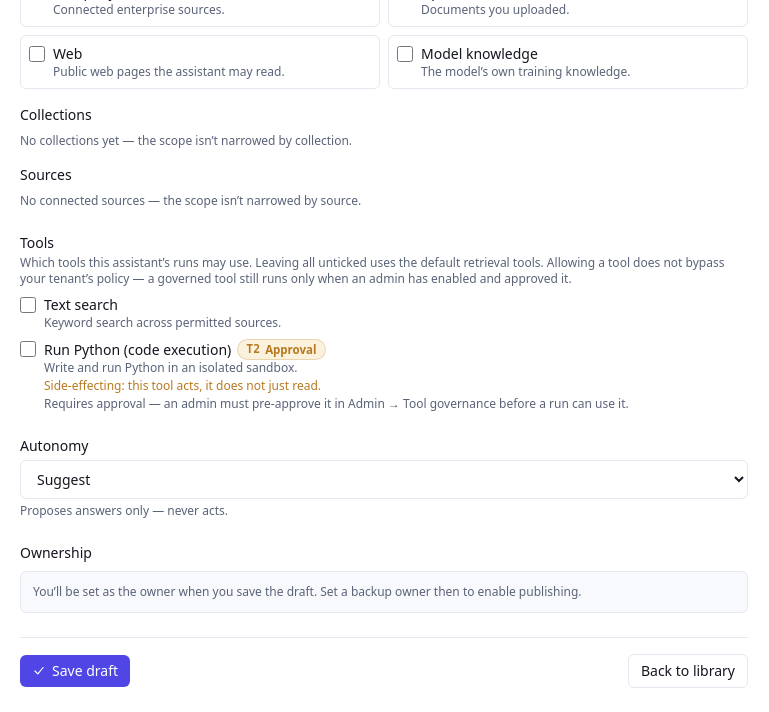
AssistantEditor — new mode › shows an inline name error when saving without a name (INV-8 client guard)
(page scrolled)
Click the button "Save draft".
click(75, 671)  # box [20,655,130,687]
(page scrolled)
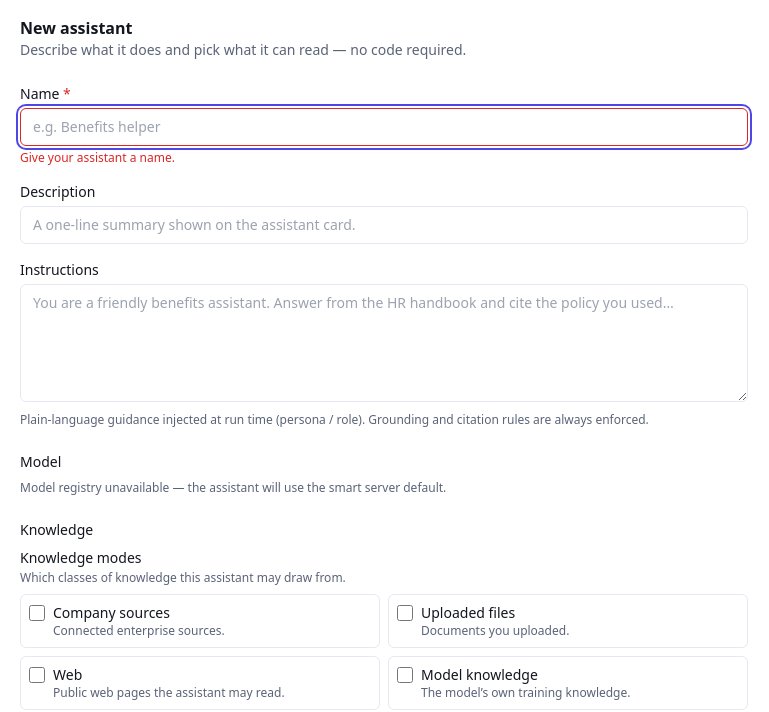
expect the text "Give your assistant a name." is shown: met, box [20,149,175,166]
